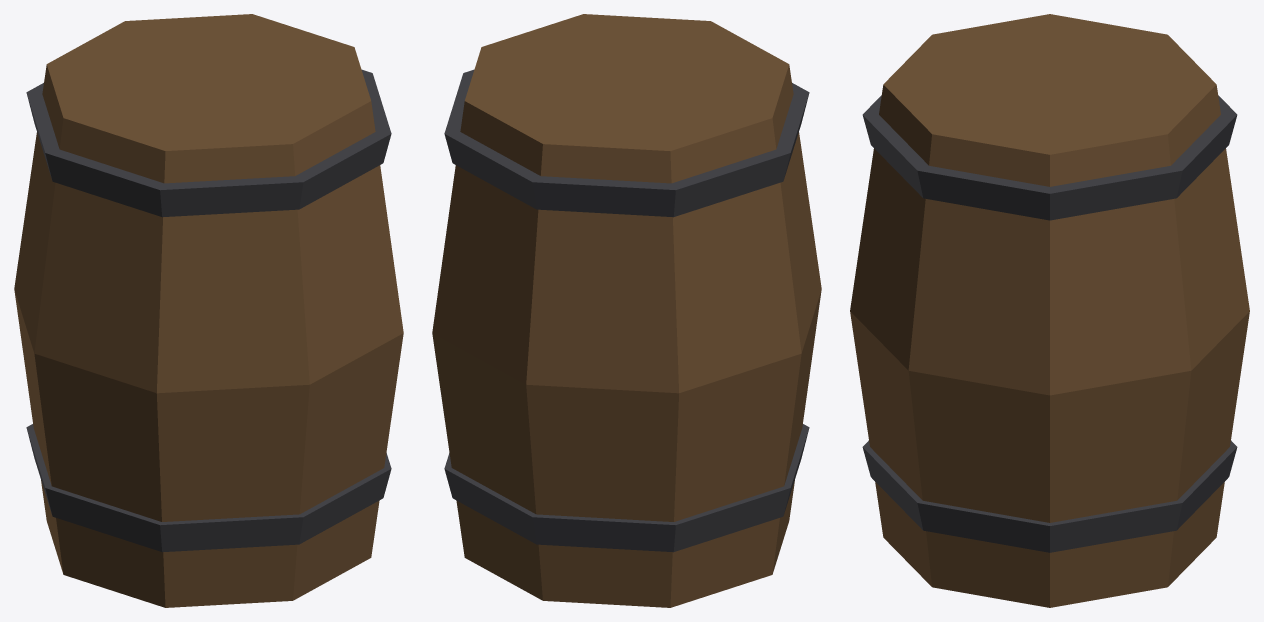
Rendered from Barrel.fbx.
The picture shows the model from 3 angles, left to right: view 1: azimuth 30°, elevation 25°; view 2: azimuth 150°, elevation 25°; view 3: azimuth 270°, elevation 25°; orthographic projection.
Parts seen in each view (by area): view 1: Kit_Barrel; view 2: Kit_Barrel; view 3: Kit_Barrel.
Part boxes in pixels (box(x1,y1,x2,y2)): Kit_Barrel: box(14, 14, 403, 607); Kit_Barrel: box(432, 14, 821, 607); Kit_Barrel: box(850, 14, 1249, 607).
Bounding box in the file's own units: 0.48 × 0.6 × 0.48.
